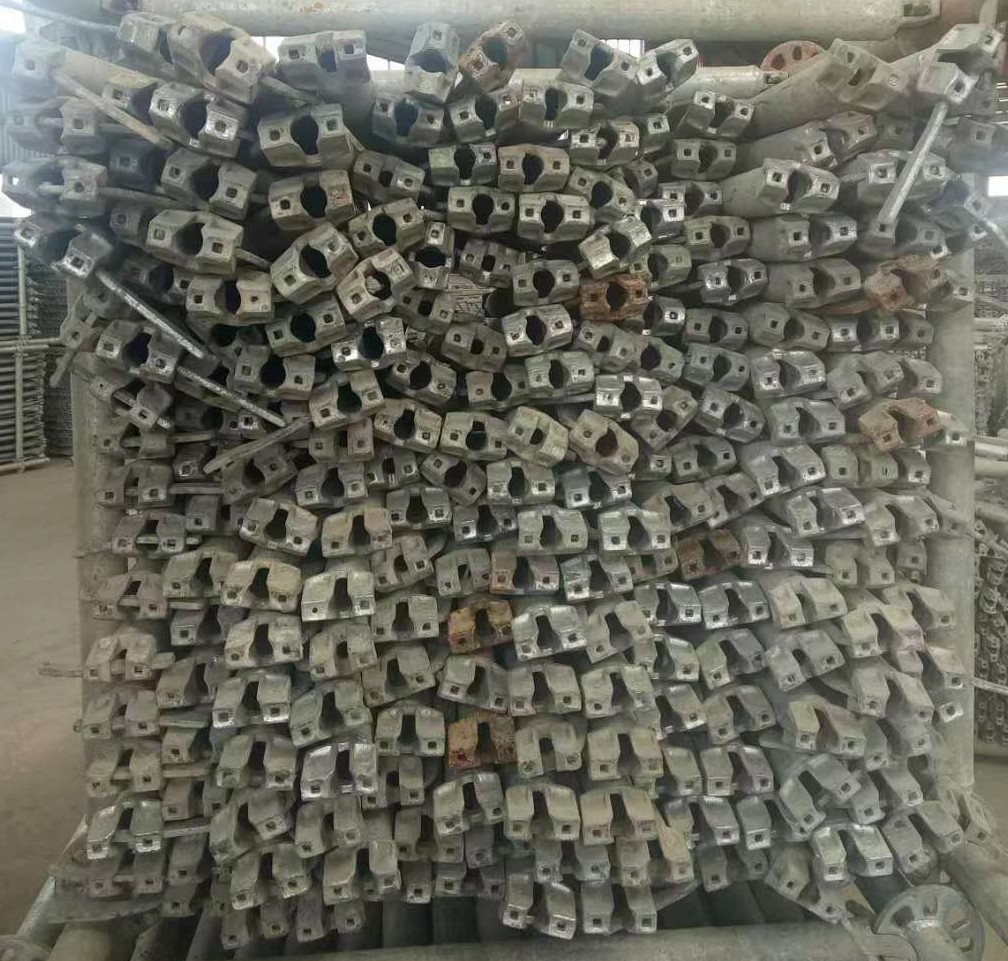NHsquare_steel: (581, 218, 650, 274)
THsquare_steel: (168, 16, 269, 90), (929, 18, 1001, 103), (148, 91, 243, 155), (271, 229, 350, 304), (256, 102, 353, 161), (144, 212, 239, 272), (823, 35, 907, 102), (160, 157, 255, 213), (11, 222, 98, 283), (274, 27, 370, 77), (400, 18, 459, 98), (460, 17, 526, 88), (96, 328, 178, 385), (209, 807, 292, 862), (272, 172, 352, 226), (787, 766, 854, 830), (871, 256, 944, 314), (289, 695, 364, 751), (184, 279, 273, 326), (760, 160, 839, 212), (219, 451, 295, 505), (771, 870, 843, 927), (566, 29, 635, 87), (844, 612, 927, 659), (569, 414, 636, 472), (228, 355, 316, 398), (310, 375, 381, 427), (227, 867, 310, 911), (368, 93, 444, 141), (751, 449, 827, 497), (502, 306, 573, 357), (351, 200, 423, 250), (321, 859, 401, 904), (239, 509, 317, 555), (770, 638, 839, 690), (774, 213, 855, 257), (781, 263, 862, 307), (363, 659, 433, 709), (788, 712, 864, 758), (269, 306, 343, 352), (349, 152, 425, 196), (521, 192, 590, 240), (836, 356, 905, 404), (640, 35, 698, 92), (866, 404, 939, 449), (219, 570, 301, 610), (863, 506, 939, 549), (859, 686, 933, 730), (770, 584, 845, 627), (304, 575, 377, 619), (496, 145, 570, 188), (803, 114, 875, 158), (439, 669, 511, 713), (752, 309, 829, 350), (214, 694, 291, 735), (521, 78, 596, 120), (510, 411, 566, 467), (212, 759, 299, 795), (898, 824, 963, 872), (584, 613, 650, 660), (640, 389, 697, 443), (702, 391, 766, 439), (309, 635, 374, 682), (505, 804, 583, 843), (770, 400, 846, 440), (302, 761, 378, 801), (755, 354, 827, 396), (509, 258, 576, 303), (427, 141, 497, 184), (122, 257, 186, 304), (387, 358, 458, 400), (448, 189, 517, 232), (224, 633, 304, 670), (578, 902, 658, 939), (515, 615, 582, 659), (438, 325, 508, 367), (816, 840, 886, 882), (439, 419, 507, 462), (684, 211, 753, 253), (600, 509, 669, 551), (863, 217, 941, 254), (701, 259, 768, 302), (374, 411, 441, 454), (446, 608, 513, 651), (790, 497, 862, 537), (294, 467, 366, 507), (449, 91, 517, 133), (424, 456, 486, 502), (699, 588, 770, 628), (669, 134, 738, 175), (512, 682, 579, 724), (828, 452, 898, 492), (520, 510, 588, 551), (582, 277, 648, 319), (415, 222, 456, 289), (710, 703, 777, 744), (437, 793, 504, 834), (573, 168, 634, 213), (369, 722, 443, 759), (708, 638, 765, 686), (591, 743, 661, 782), (583, 808, 661, 843), (332, 329, 405, 366), (486, 467, 559, 504), (680, 534, 744, 576), (587, 678, 652, 719), (523, 357, 597, 393), (749, 530, 815, 570), (825, 314, 898, 350), (562, 563, 635, 599), (447, 734, 518, 771), (372, 606, 441, 644), (99, 71, 153, 119), (706, 480, 760, 528), (702, 762, 776, 797), (594, 379, 660, 418), (687, 91, 758, 127), (321, 518, 390, 555), (854, 784, 923, 821), (621, 855, 696, 889), (164, 559, 229, 598), (868, 732, 933, 771), (369, 550, 435, 588), (702, 854, 768, 892), (516, 742, 583, 779), (297, 820, 364, 857), (686, 348, 751, 386), (657, 486, 715, 528), (175, 401, 242, 437), (675, 439, 737, 477), (158, 671, 218, 710), (465, 370, 531, 405), (629, 244, 690, 281), (563, 475, 633, 507), (437, 556, 493, 596), (496, 560, 560, 595), (465, 838, 537, 869), (643, 593, 700, 632), (574, 325, 634, 362), (456, 508, 517, 544), (686, 309, 750, 343), (460, 240, 513, 281), (221, 916, 286, 949), (957, 116, 1008, 158), (108, 144, 161, 184), (640, 650, 702, 684), (833, 552, 893, 587), (400, 290, 455, 327), (388, 497, 451, 529), (295, 910, 362, 940), (658, 698, 706, 739), (660, 179, 730, 207), (397, 833, 460, 864), (308, 430, 372, 460), (357, 784, 428, 811), (635, 342, 685, 380), (945, 179, 988, 223), (744, 822, 811, 850), (169, 618, 232, 647), (158, 891, 221, 920), (160, 793, 225, 821), (105, 203, 150, 243), (186, 504, 244, 535), (627, 552, 682, 584), (916, 660, 969, 693), (163, 735, 219, 766), (686, 816, 737, 850), (642, 298, 686, 337), (636, 202, 681, 240), (364, 456, 418, 487), (913, 595, 957, 629), (649, 772, 702, 800), (906, 364, 947, 398), (897, 315, 937, 348), (887, 545, 934, 573), (168, 855, 210, 885), (623, 159, 660, 193), (896, 456, 929, 492), (634, 451, 672, 480)
THsquare_steel_blocked: (6, 162, 108, 215), (340, 254, 410, 317), (8, 100, 97, 148), (863, 156, 951, 202), (85, 377, 160, 429), (490, 897, 575, 940), (88, 577, 166, 620), (88, 468, 170, 508), (82, 640, 154, 684), (60, 285, 107, 352), (75, 708, 160, 744), (82, 822, 157, 859), (83, 759, 160, 795), (91, 430, 177, 462), (536, 852, 612, 888), (566, 124, 640, 159), (433, 867, 507, 902), (115, 521, 185, 557), (239, 404, 310, 439), (86, 867, 162, 898)
